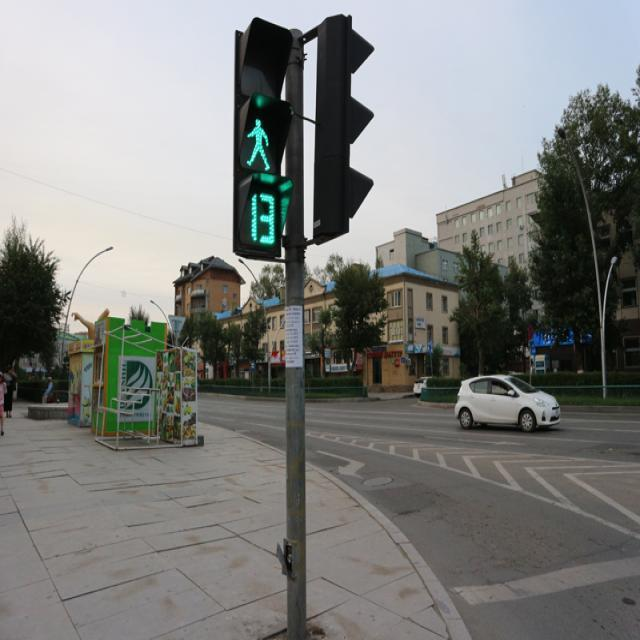green_light: (241, 116, 283, 247)
